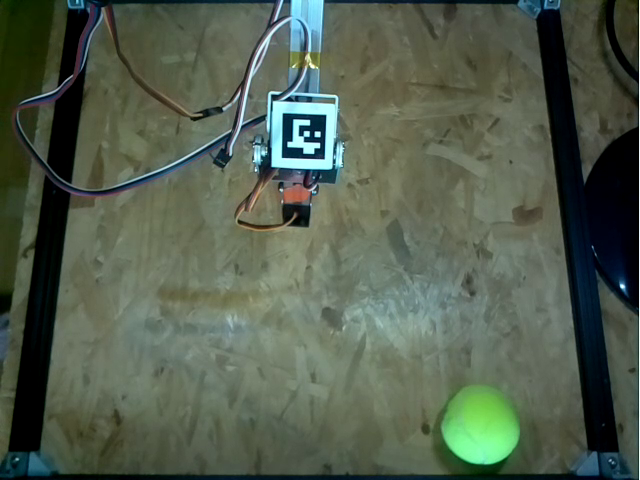tennis_ball: (439, 385, 521, 465)
